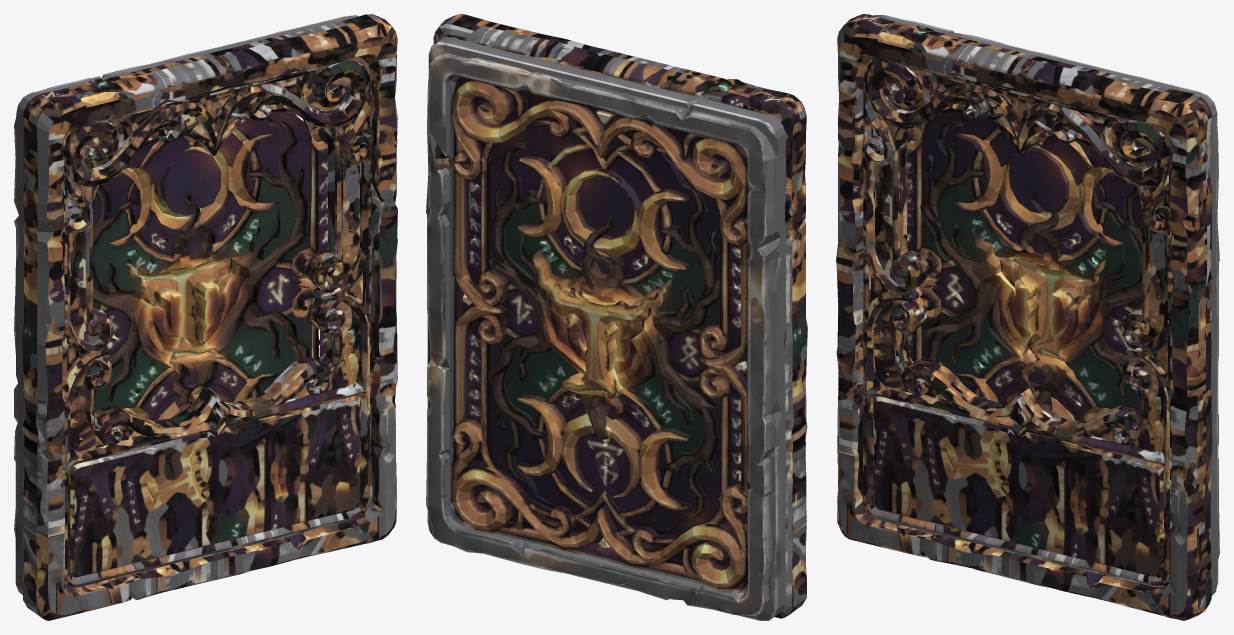
The model's file is All_Card.fbx.
The picture shows the model from 3 angles, left to right: view 1: azimuth 30°, elevation 25°; view 2: azimuth 150°, elevation 25°; view 3: azimuth 330°, elevation 25°; orthographic projection.
Parts seen in each view (by area): view 1: polySurface1, polySurface2; view 2: polySurface2, polySurface1; view 3: polySurface1, polySurface2.
Part boxes in pixels (x1,y1,x2,y2): polySurface1: [21, 14, 397, 620]; polySurface2: [14, 15, 358, 594]; polySurface2: [426, 36, 787, 620]; polySurface1: [433, 14, 807, 618]; polySurface1: [836, 14, 1212, 620]; polySurface2: [874, 15, 1219, 595].
Bounding box in the file's own units: 75.34 × 103 × 14.33.
